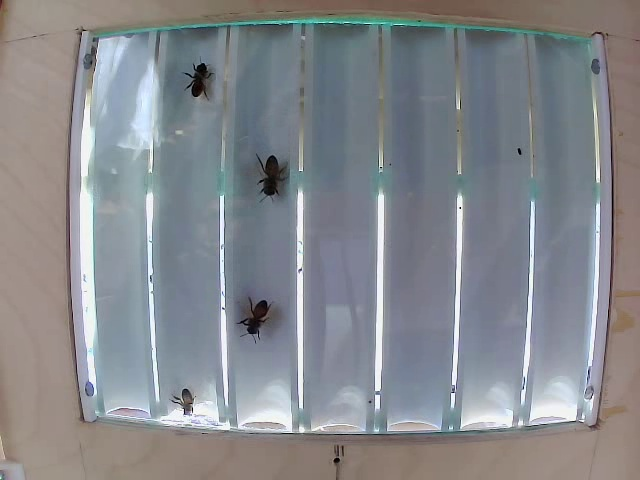bee: (223, 292, 286, 335), (185, 55, 229, 108), (260, 156, 294, 198)
